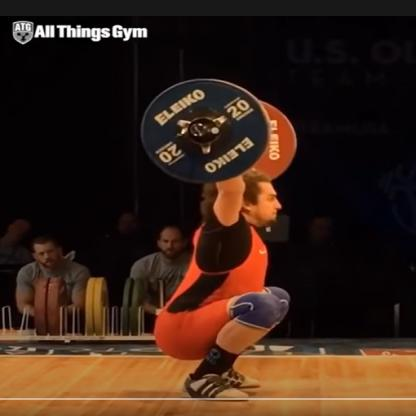Barbell: (137, 75, 275, 187)
